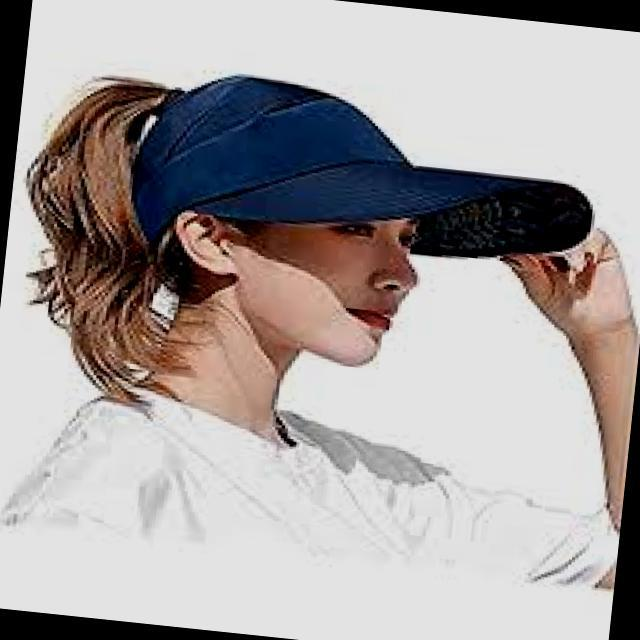cap: (111, 35, 630, 336)
